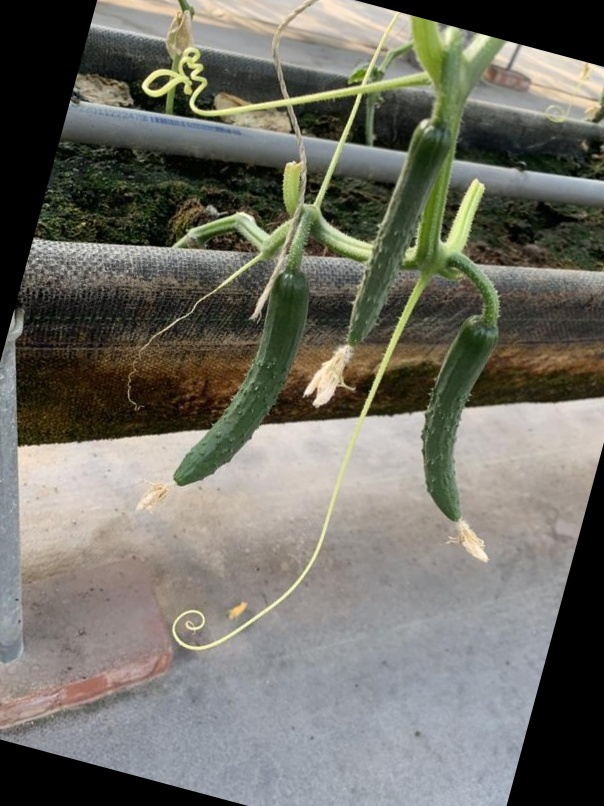growth: (328, 116, 451, 368), (410, 315, 510, 556)
mature: (163, 264, 317, 495)
